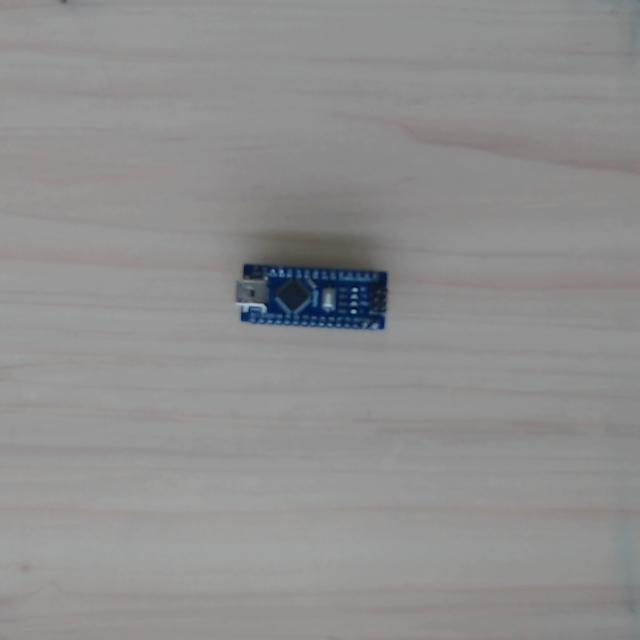Arduino-Nano: (234, 264, 388, 330)
